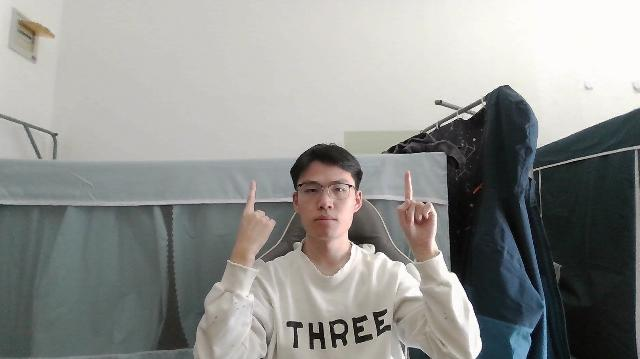one: (394, 171, 438, 246), (237, 180, 275, 254)
